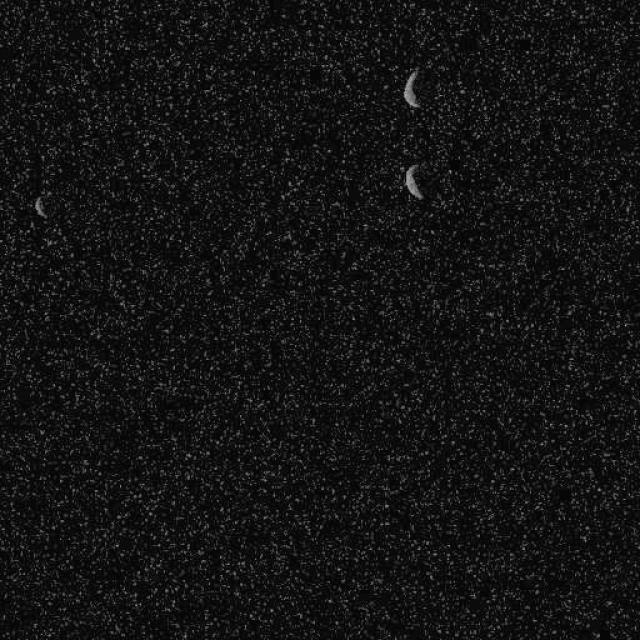D2: (402, 68, 422, 109), (404, 162, 424, 200), (32, 195, 46, 219)
